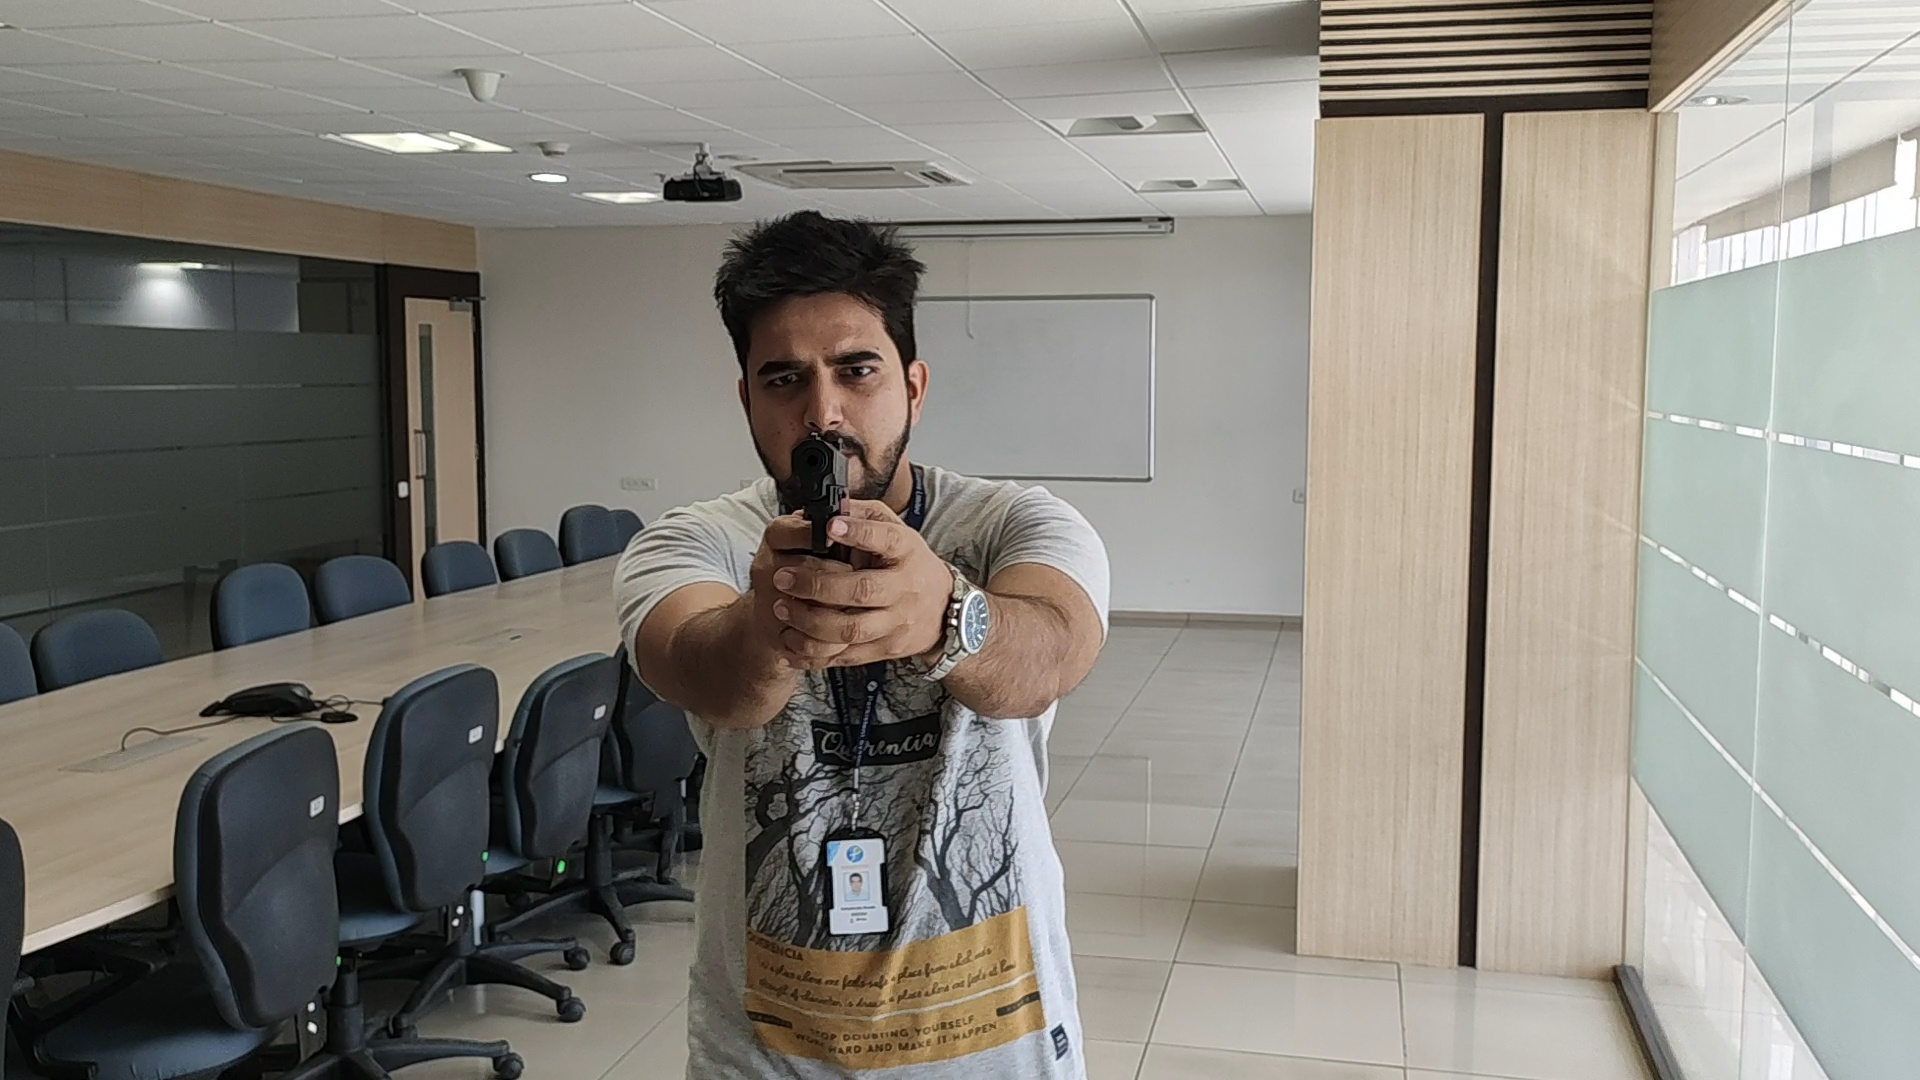gun: (790, 433, 853, 517)
